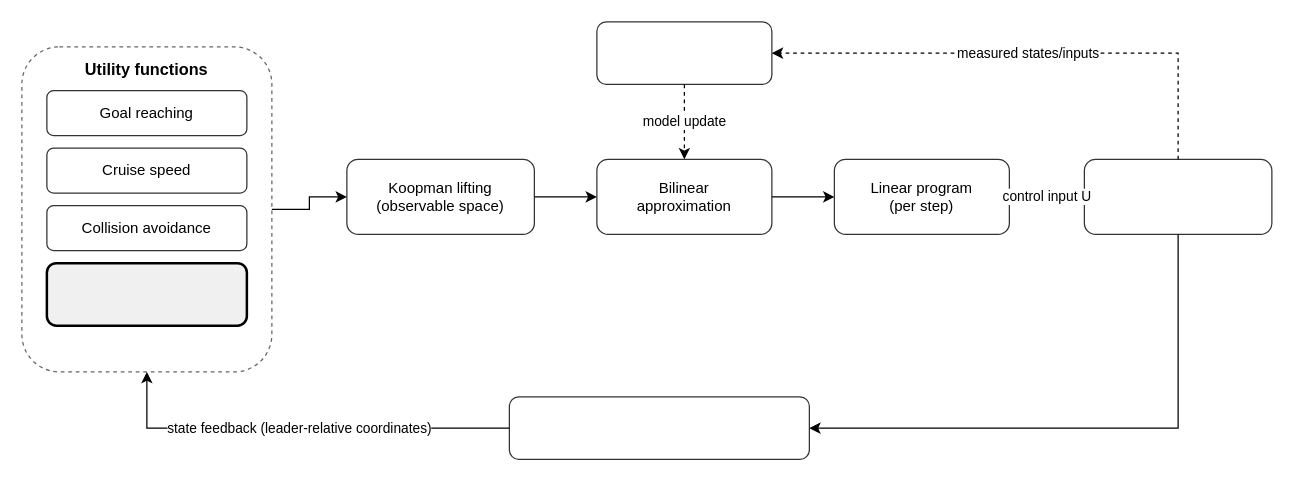
This 1294x481 diagram has some shape labels left out. The shapes that lost their labels are listed below. From the top down, each one's box as (x1, y1, x2, y2) in pixels, then its label:
(596, 21, 772, 84): Online identification (RLS)
(1083, 158, 1272, 234): USVs (leader + followers)
(45, 261, 248, 326): Formation keeping φ⁷ (proposed)
(508, 396, 809, 459): Platform LiDAR relative sensing (reflector plates: follower position + heading)
